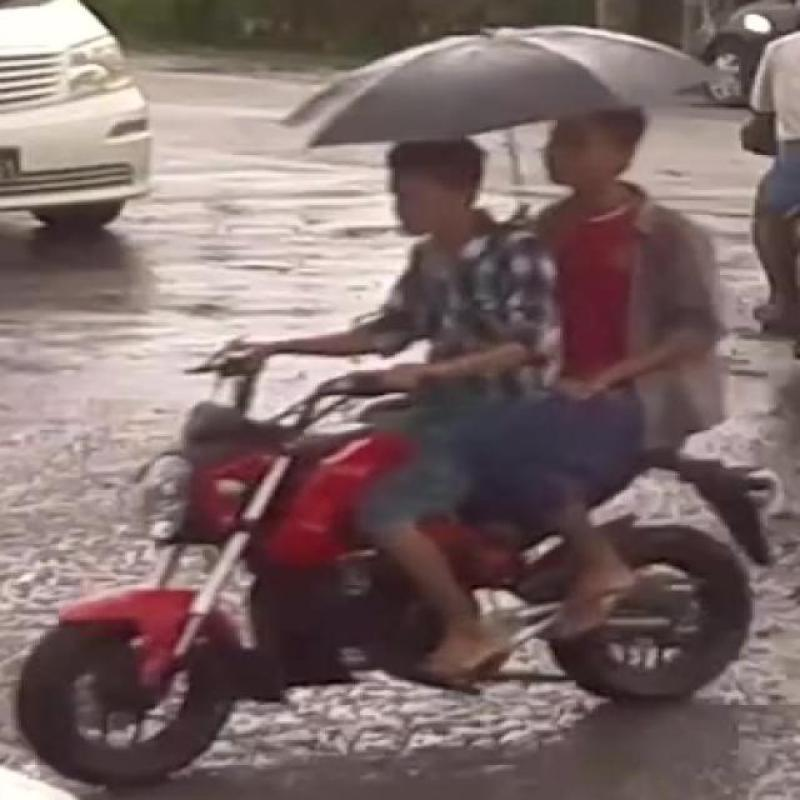nohelmet: (358, 138, 512, 244), (554, 94, 682, 210)
